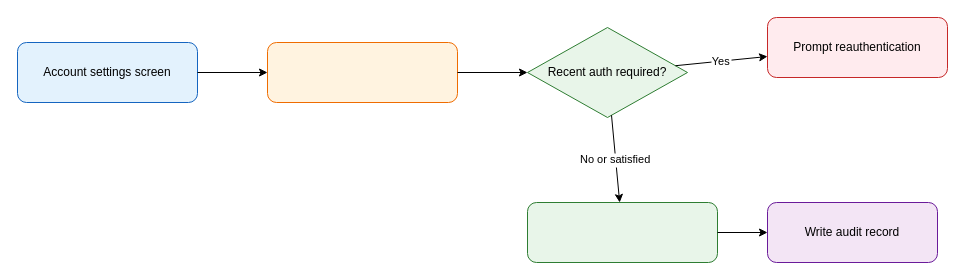
The diagram is 965 pixels wide and 280 high, and some of its shapes have lost their labels. Here are the shapes that lost their labels. From the top down, the centre of each, then its label:
At [362,72]: "Security-sensitive action".
At [622,232]: "Delegate to Auth operation".
